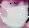with_mask: (1, 1, 29, 28)
